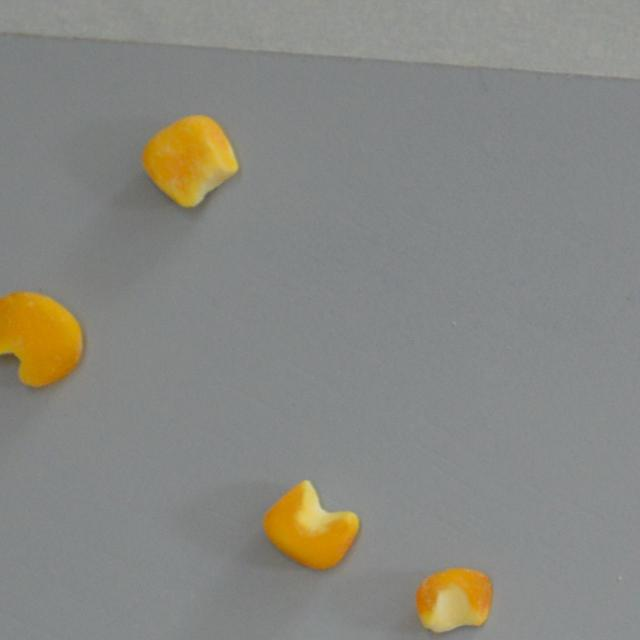no_canjicado: (260, 478, 359, 572), (142, 114, 238, 208), (0, 291, 83, 388)
pelicula: (414, 567, 492, 634)
